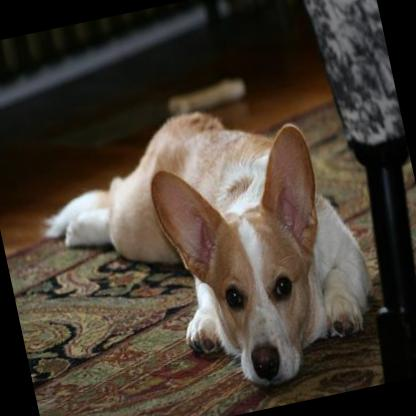Cardigan: (22, 79, 388, 416)
